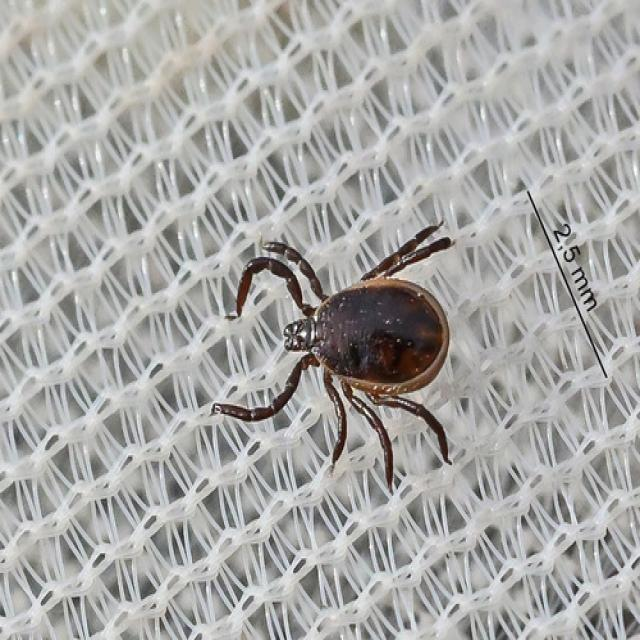Ixodes Ricinus-M: (211, 226, 452, 493)
